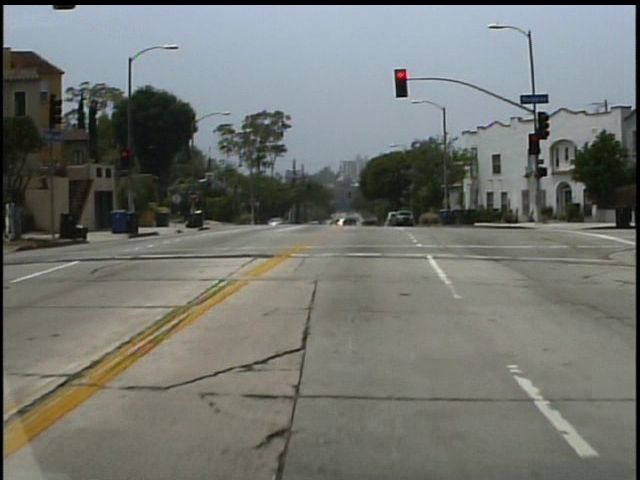person: (10, 196, 21, 241)
